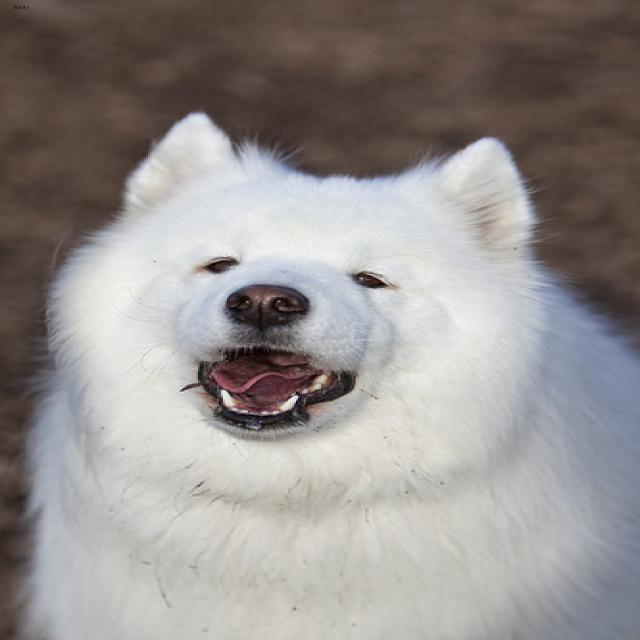dog-samoyed: (4, 105, 636, 637)
